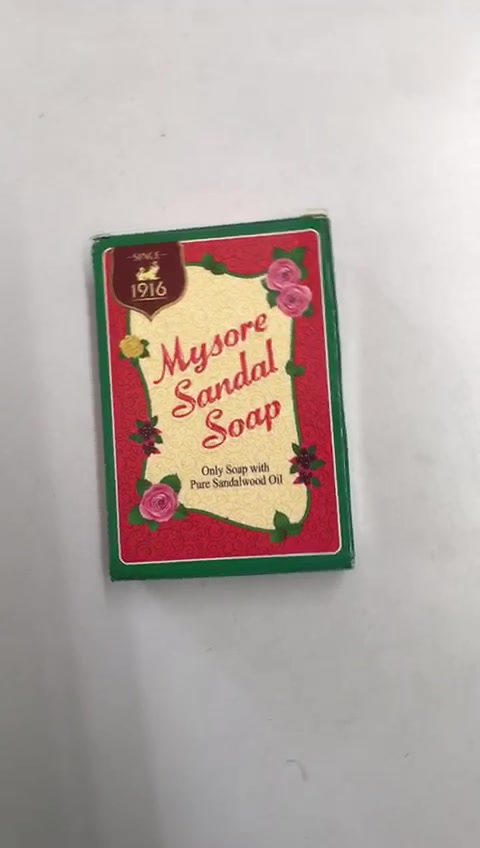mysoresandalsoap: (91, 215, 357, 582)
